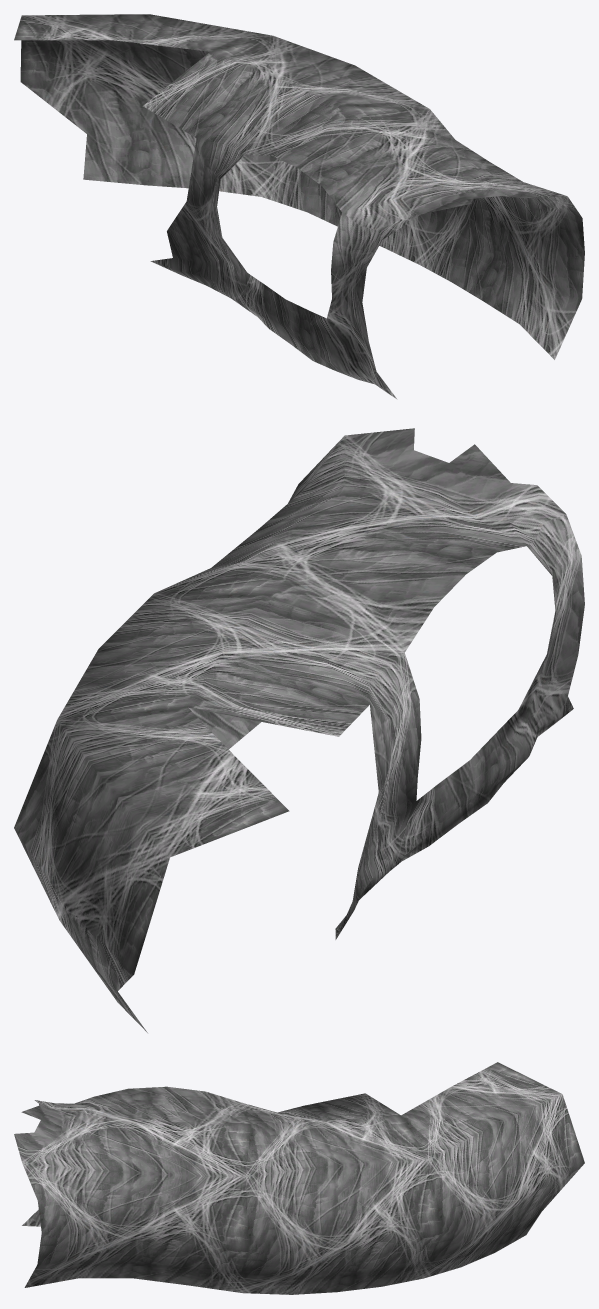
Rendered from SWORDLIGHT20_PS-AREA01_27.fbx.
3 renders of one model, top to bottom at view 1: azimuth 30°, elevation 25°; view 2: azimuth 150°, elevation 25°; view 3: azimuth 270°, elevation 25°, orthographic. The views are drawn at different scales.
Visible parts, largest first — view 1: SWORDLIGHT20_PS-AREA01_27; view 2: SWORDLIGHT20_PS-AREA01_27; view 3: SWORDLIGHT20_PS-AREA01_27.
Boxes of the visible parts, x1,y1,x2,y2 form: SWORDLIGHT20_PS-AREA01_27: [14, 14, 584, 399]; SWORDLIGHT20_PS-AREA01_27: [14, 428, 584, 1032]; SWORDLIGHT20_PS-AREA01_27: [14, 1062, 584, 1294].
Bounding box in the file's own units: 93611 × 60487 × 202327.
1 material, 1 textured.
